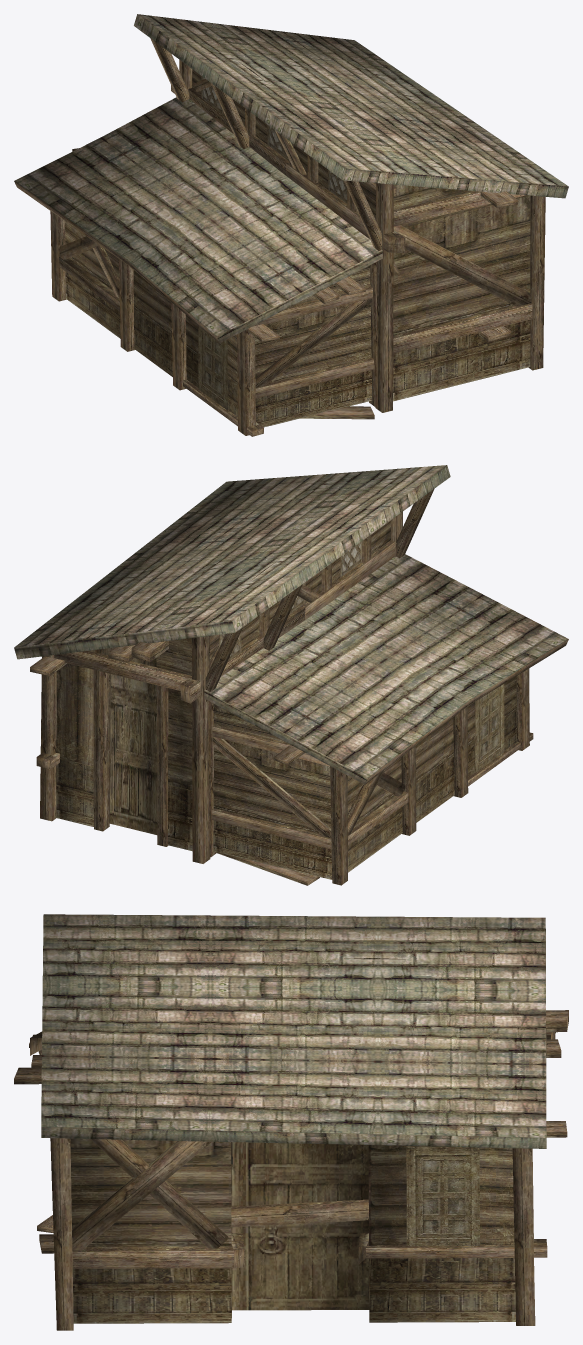
Rendered from S_Build_West085.FBX.
3 renders of one model, top to bottom at view 1: azimuth 30°, elevation 25°; view 2: azimuth 150°, elevation 25°; view 3: azimuth 270°, elevation 25°, orthographic. The views are drawn at different scales.
Parts seen in each view (by area): view 1: S_Build_West085; view 2: S_Build_West085; view 3: S_Build_West085.
Part boxes in pixels (x1,y1,x2,y2): S_Build_West085: (14, 14, 568, 436); S_Build_West085: (14, 465, 568, 885); S_Build_West085: (14, 914, 568, 1330).
Size of the model in its own units: 1100 by 1282 by 778.
